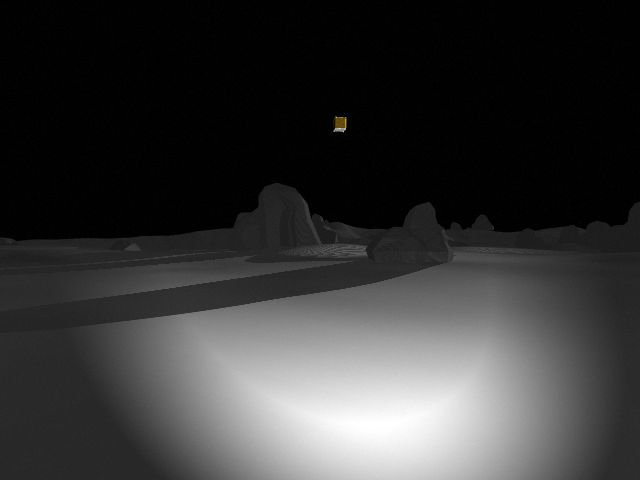cubesat: (330, 113, 349, 136)
